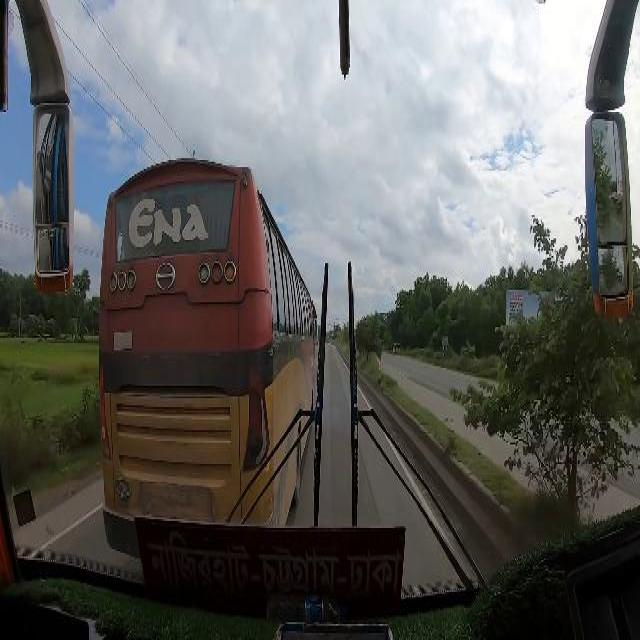Truck: (98, 156, 314, 530)
